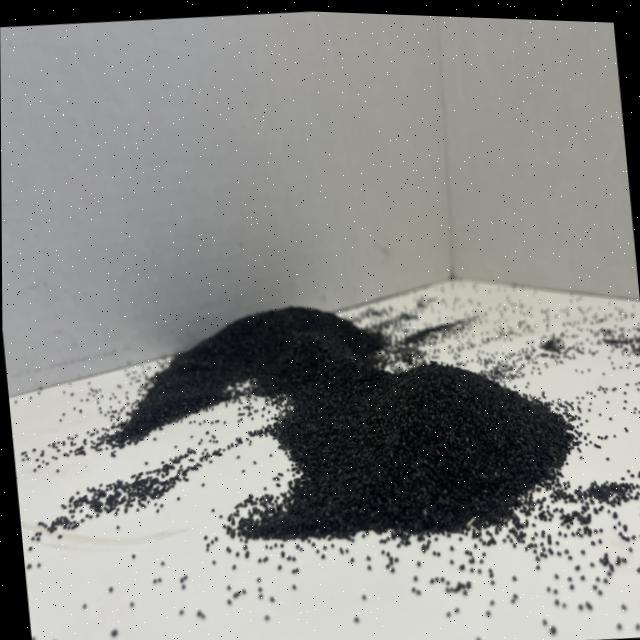Poppy Seeds: (85, 243, 614, 619)
